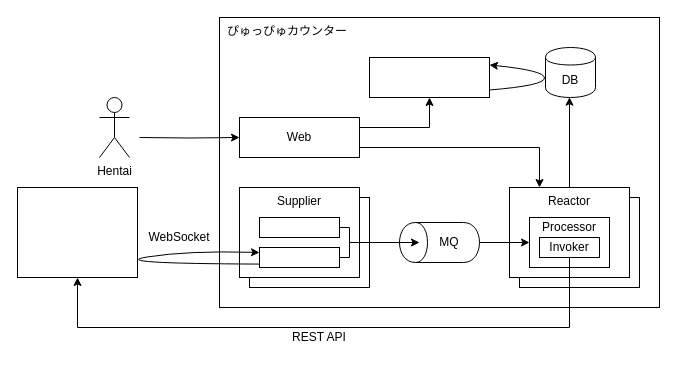
Image size: 677x365. Some labels were removed from this diagram. The centre of each missing label's shape, as x and y in pixels:
Grafana: point 429,77
Mastodon: point 77,232
Scheduler: point 299,227
Streaming: point 299,257
